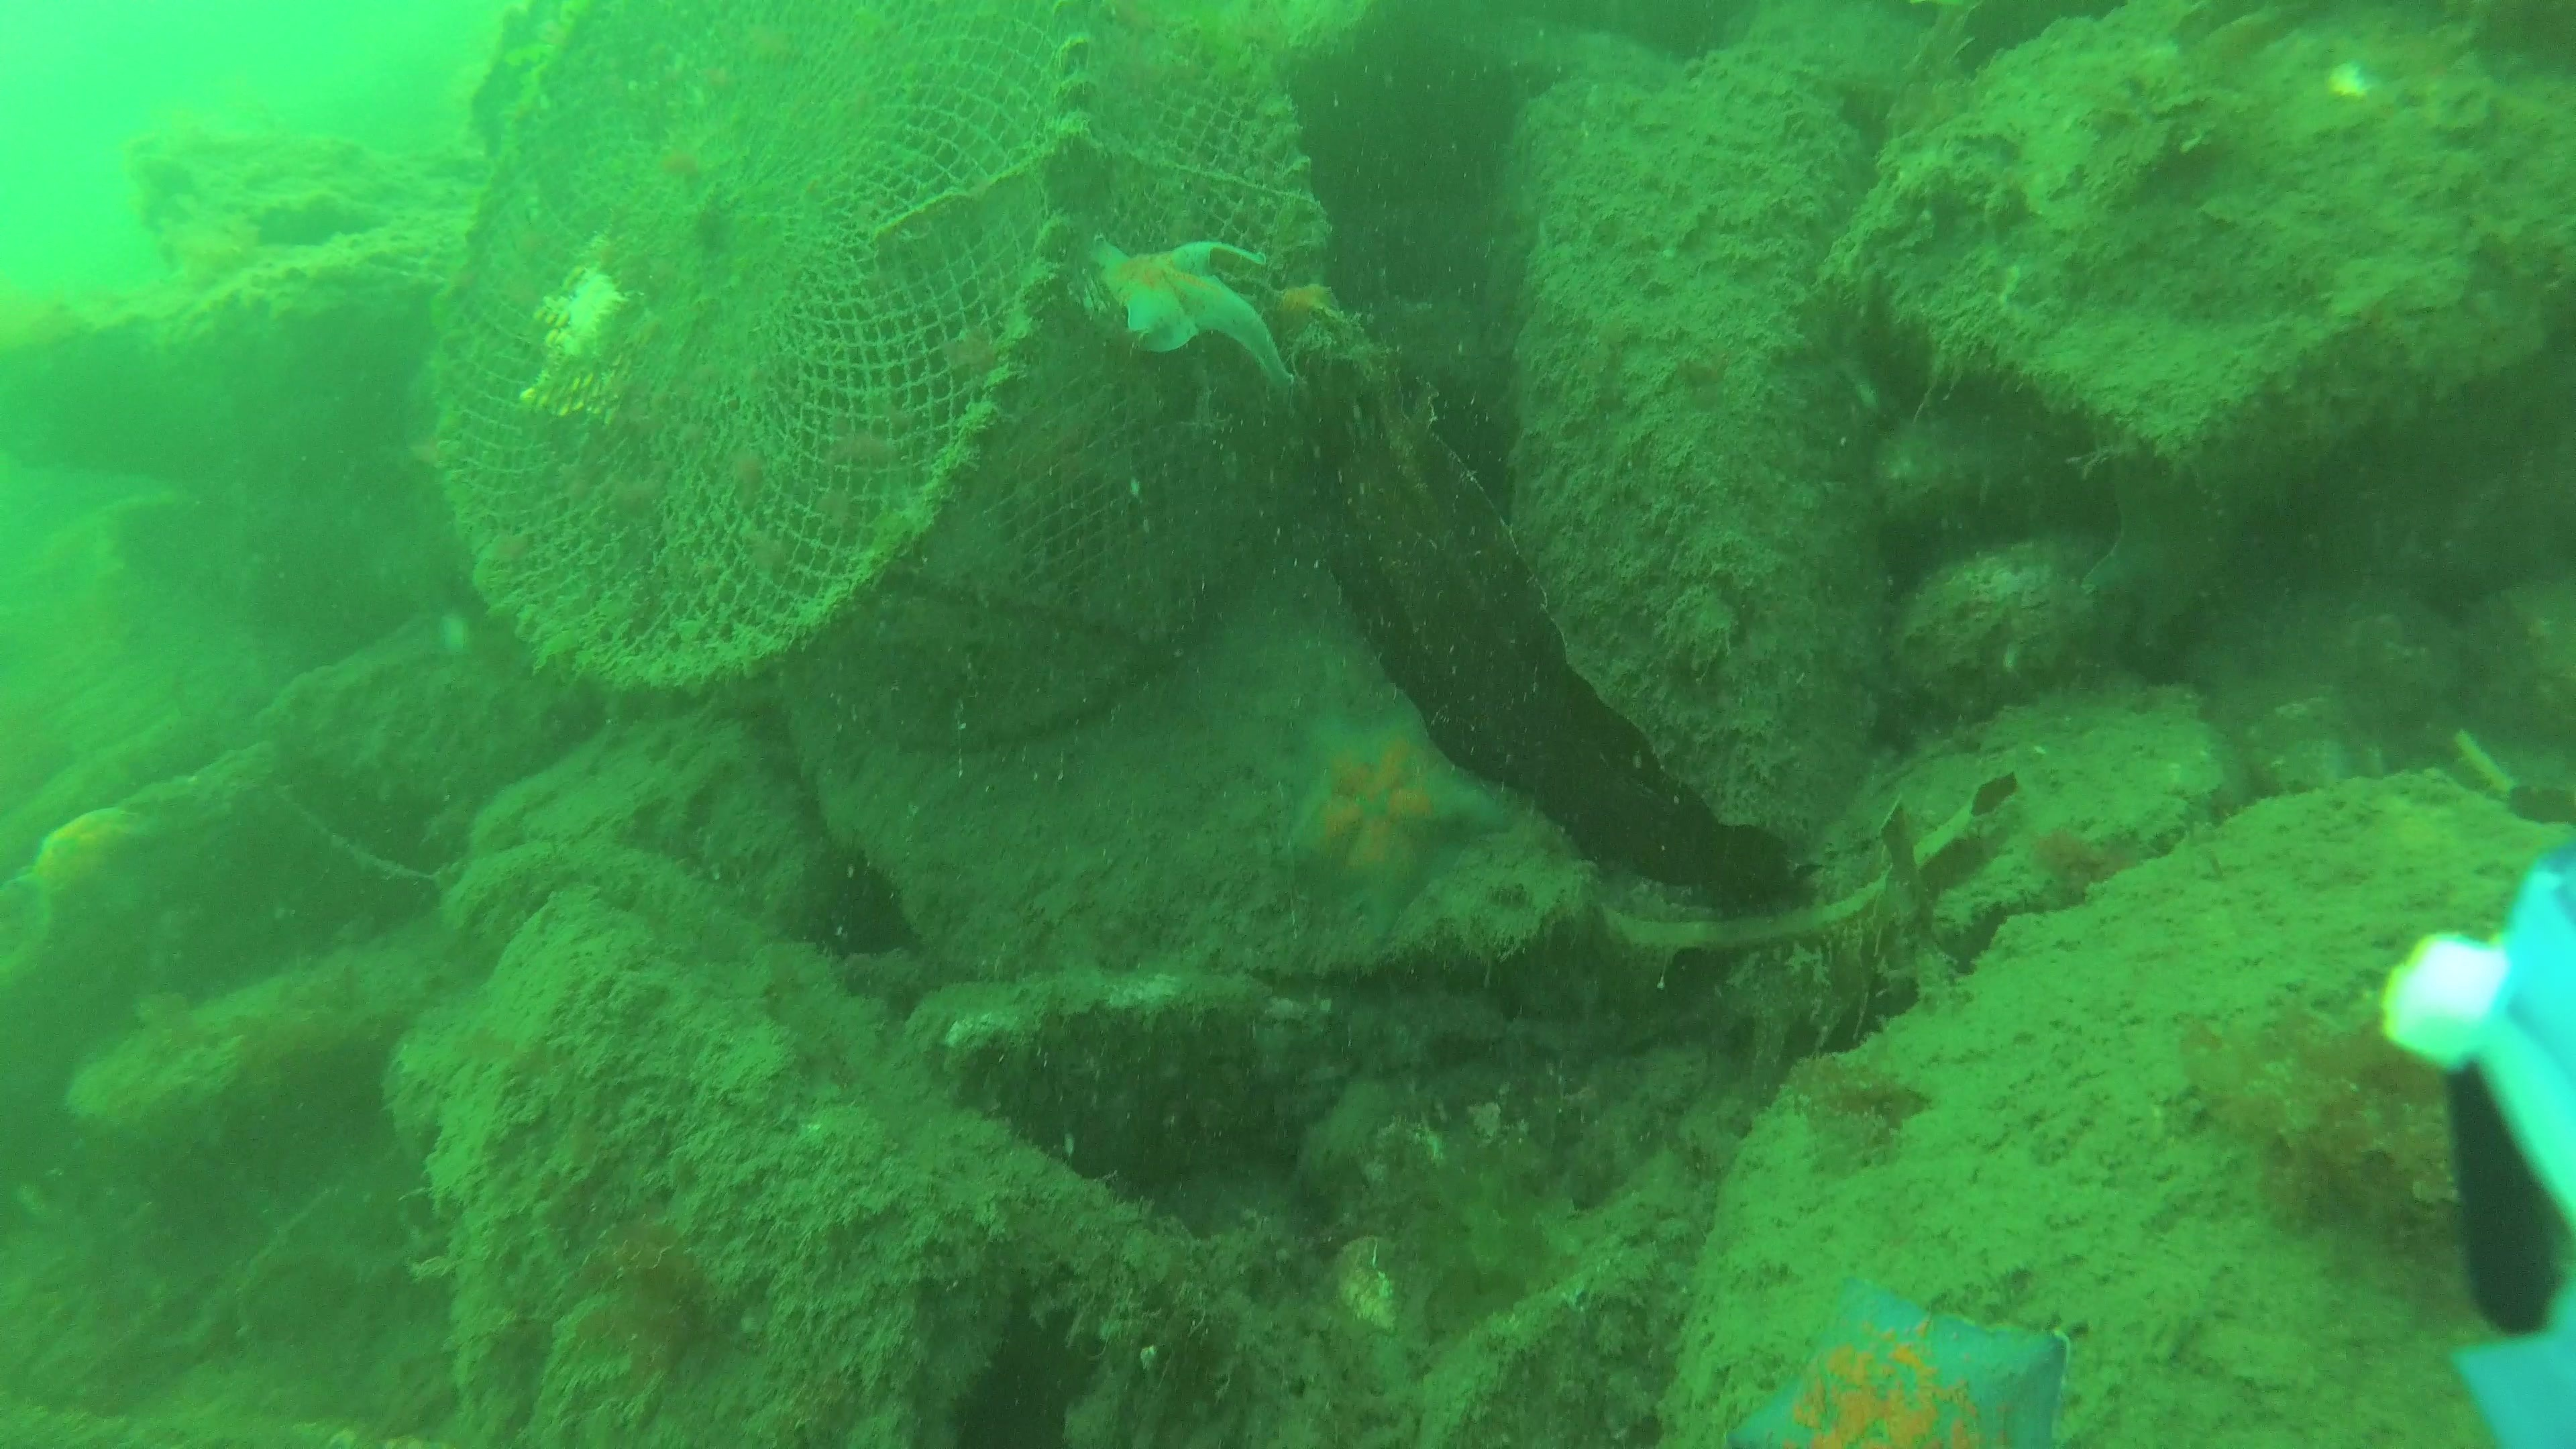starfish: (1272, 702, 1506, 948), (1744, 1277, 2070, 1449), (1081, 230, 1304, 393), (14, 803, 152, 934)
